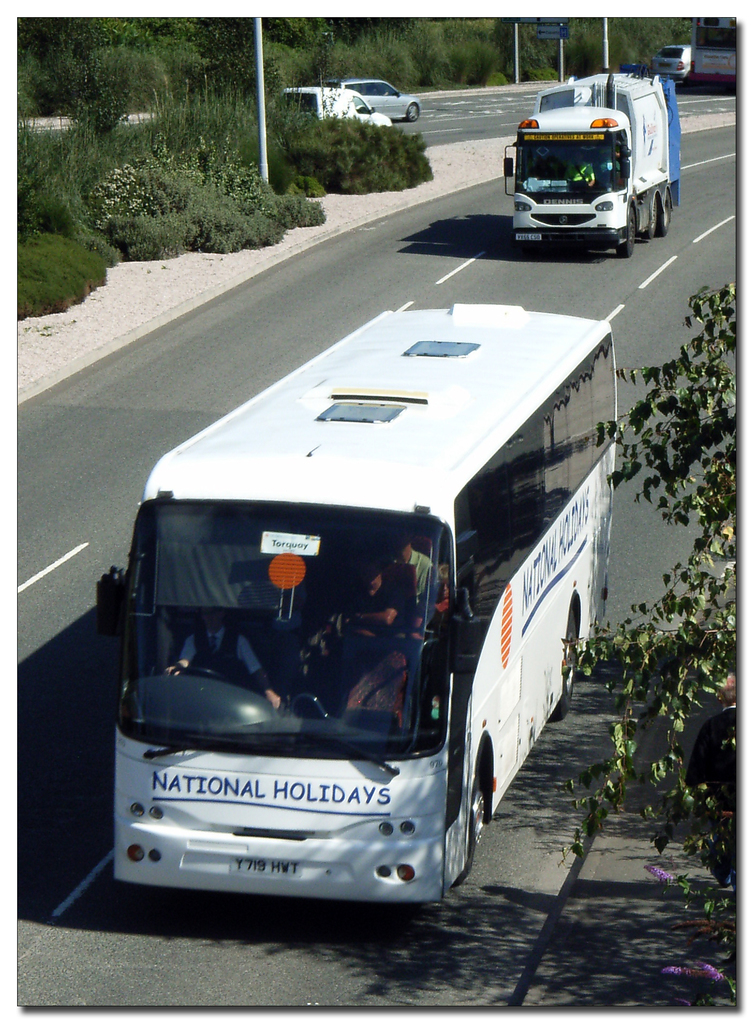Bus: (99, 299, 625, 899), (686, 10, 738, 84)
